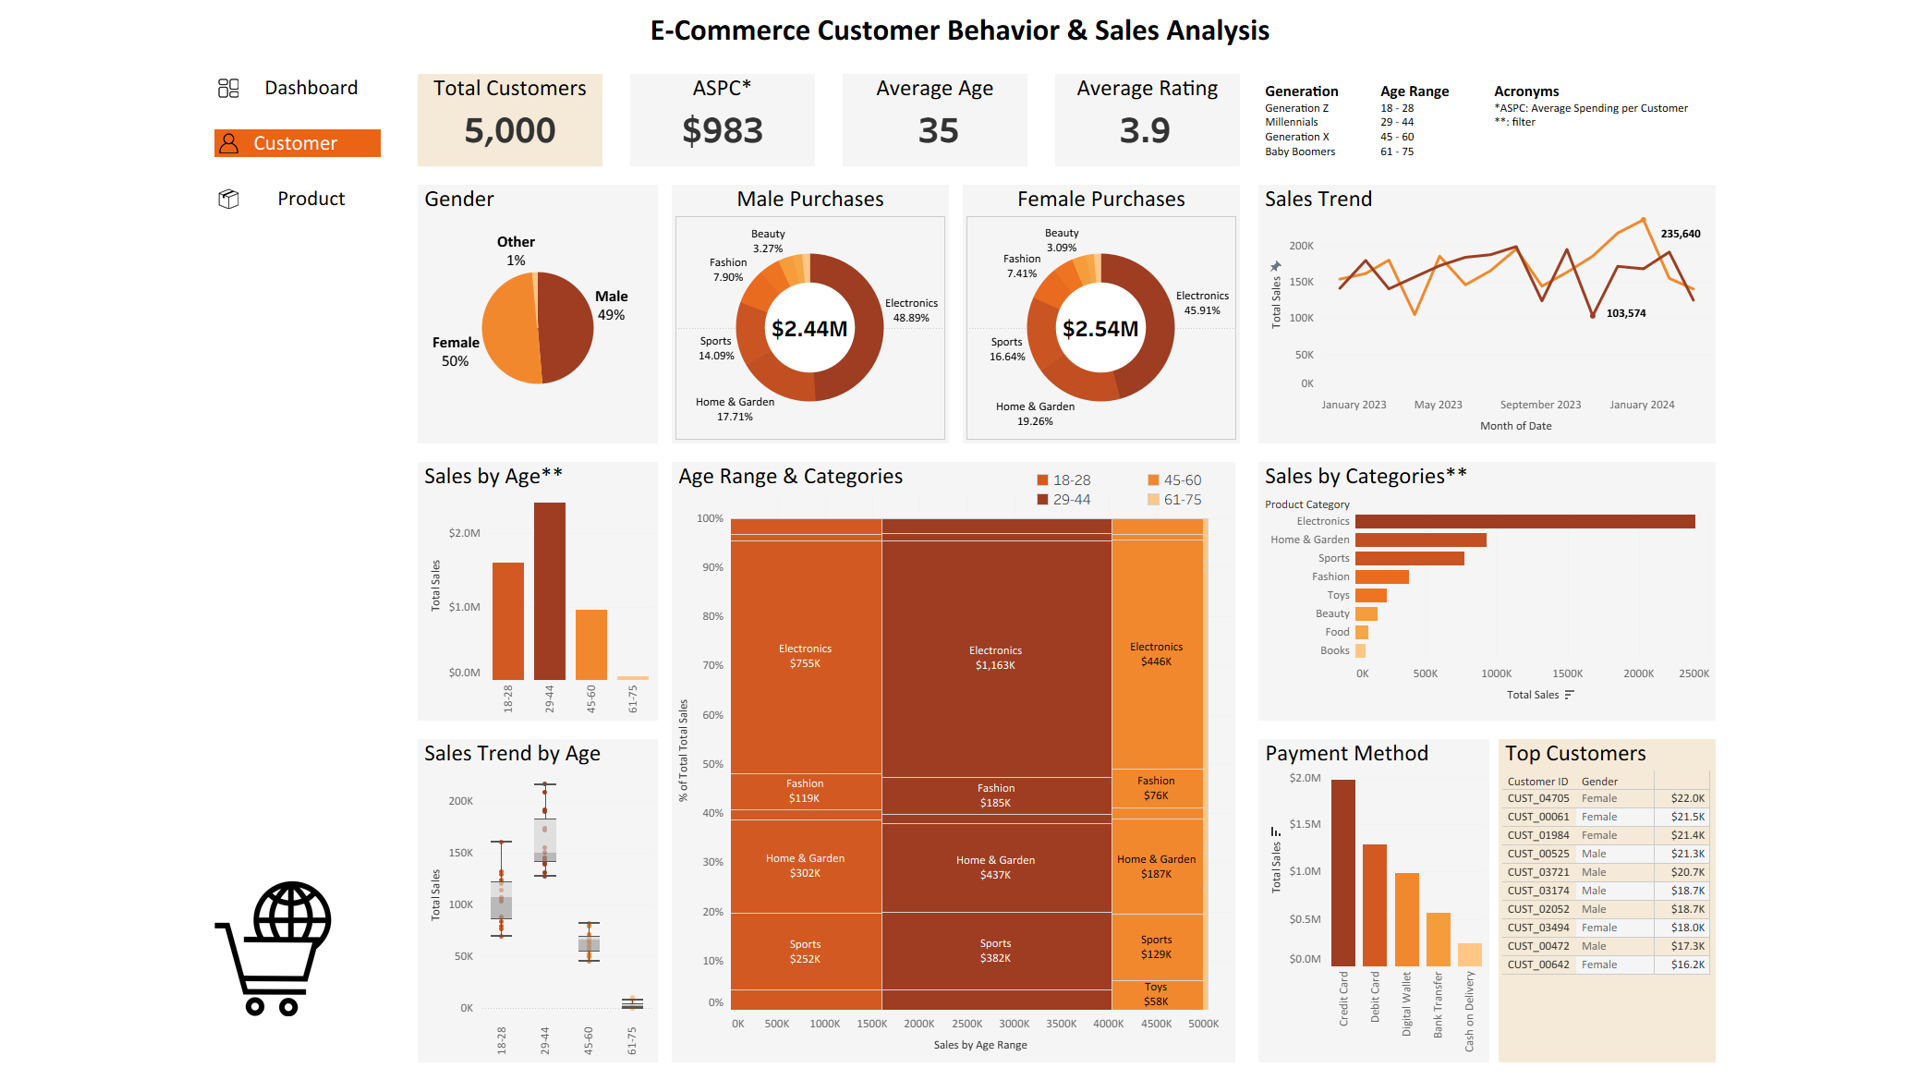

Layout of this report page (visuals, bound fields, positions):
{"tool":"tableau","page":{"name":"Customer","canvas":[1654,1169],"ordinal":0},"visuals":[{"type":"title","box":[8,8,1638,49]},{"type":"image","param":"Image/1.png","box":[20,80,30,30]},{"type":"dashboard-object","box":[50,80,150,30]},{"type":"text","box":[240,80,200,30]},{"type":"text","box":[470,80,200,30]},{"type":"text","box":[700,80,200,30]},{"type":"text","box":[930,80,200,30]},{"type":"text","box":[1150,80,125,100]},{"type":"text","box":[1275,80,123,100]},{"type":"text","box":[1398,80,247,100]},{"type":"worksheet","title":"Total Customers","mark":"Automatic","box":[240,110,200,58]},{"type":"worksheet","title":"Average Spend Per Returning User","mark":"Automatic","box":[470,110,200,58]},{"type":"worksheet","title":"Average Age","mark":"Automatic","box":[700,110,200,58]},{"type":"worksheet","title":"Average Rating","mark":"Automatic","box":[930,110,200,58]},{"type":"image","param":"Image/3.png","box":[20,140,30,30]},{"type":"text","box":[50,140,120,30]},{"type":"image","param":"Image/2.png","box":[20,200,30,30]},{"type":"dashboard-object","box":[50,200,150,30]},{"type":"text","box":[240,200,260,30]},{"type":"text","box":[515,200,300,30]},{"type":"text","box":[830,200,300,30]},{"type":"text","box":[1150,200,495,30]},{"type":"worksheet","title":"Gender","mark":"Pie","box":[240,230,260,250]},{"type":"worksheet","title":"Male Spend by Categories","mark":"Pie","rows":["Calculation_1930636867859955715","Calculation_1930636867859955715"],"box":[515,230,300,250]},{"type":"worksheet","title":"Female Spend by Categories","mark":"Pie","rows":["Calculation_1930636867859955715","Calculation_1930636867859955715"],"box":[830,230,300,250]},{"type":"worksheet","title":"Sales Trend by Gender","mark":"Automatic","rows":["Calculation_1930636867845853185"],"cols":["Date"],"box":[1150,230,495,250]},{"type":"text","box":[240,500,260,30]},{"type":"text","box":[515,500,610,30]},{"type":"text","box":[1150,500,495,30]},{"type":"legend","title":"Age & Categories","param":"[federated.0fvzd6u065pnl51ggmtq41s6tw1s].[none:Calculation_789537312195059712:nk","box":[906,509,309,47]},{"type":"worksheet","title":"Sales by Age","mark":"Automatic","rows":["Calculation_1930636867845853185"],"cols":["Calculation_789537312195059712"],"box":[240,530,260,250]},{"type":"worksheet","title":"Age & Categories","mark":"Bar","box":[515,530,610,620]},{"type":"worksheet","title":"Sales by Categories","mark":"Automatic","rows":["Product_Category"],"cols":["Calculation_1930636867845853185"],"box":[1150,530,495,241]},{"type":"text","box":[240,800,260,30]},{"type":"text","box":[1150,800,250,30]},{"type":"text","box":[1410,800,235,30]},{"type":"worksheet","title":"Sales Trend by Age","mark":"Circle","rows":["Calculation_1930636867845853185"],"cols":["Calculation_789537312195059712"],"box":[240,830,260,320]},{"type":"worksheet","title":"Sales by Payment Method","mark":"Automatic","rows":["Calculation_1930636867845853185"],"cols":["Payment_Method"],"box":[1150,830,250,320]},{"type":"worksheet","title":"Top Sales by Customer","mark":"Automatic","rows":["Customer_ID","Gender"],"box":[1410,830,235,229]},{"type":"image","param":"Image/4.png","box":[20,950,150,150]}]}

Visuals, with their boxes on the page's 1654x1169 design canvas (x1, y1, x2, y2). These are canvas units, not pixel positions in the 1919x1079 screenshot, which may show the page scaled, cropped or inside an application window:
title: box(8, 8, 1646, 57)
image: box(20, 80, 50, 110)
dashboard-object: box(50, 80, 200, 110)
text: box(240, 80, 440, 110)
text: box(470, 80, 670, 110)
text: box(700, 80, 900, 110)
text: box(930, 80, 1130, 110)
text: box(1150, 80, 1275, 180)
text: box(1275, 80, 1398, 180)
text: box(1398, 80, 1645, 180)
"Total Customers" worksheet: box(240, 110, 440, 168)
"Average Spend Per Returning User" worksheet: box(470, 110, 670, 168)
"Average Age" worksheet: box(700, 110, 900, 168)
"Average Rating" worksheet: box(930, 110, 1130, 168)
image: box(20, 140, 50, 170)
text: box(50, 140, 170, 170)
image: box(20, 200, 50, 230)
dashboard-object: box(50, 200, 200, 230)
text: box(240, 200, 500, 230)
text: box(515, 200, 815, 230)
text: box(830, 200, 1130, 230)
text: box(1150, 200, 1645, 230)
"Gender" worksheet (Pie marks): box(240, 230, 500, 480)
"Male Spend by Categories" worksheet (Pie marks): box(515, 230, 815, 480)
"Female Spend by Categories" worksheet (Pie marks): box(830, 230, 1130, 480)
"Sales Trend by Gender" worksheet: box(1150, 230, 1645, 480)
text: box(240, 500, 500, 530)
text: box(515, 500, 1125, 530)
text: box(1150, 500, 1645, 530)
"Age & Categories" legend: box(906, 509, 1215, 556)
"Sales by Age" worksheet: box(240, 530, 500, 780)
"Age & Categories" worksheet (Bar marks): box(515, 530, 1125, 1150)
"Sales by Categories" worksheet: box(1150, 530, 1645, 771)
text: box(240, 800, 500, 830)
text: box(1150, 800, 1400, 830)
text: box(1410, 800, 1645, 830)
"Sales Trend by Age" worksheet (Circle marks): box(240, 830, 500, 1150)
"Sales by Payment Method" worksheet: box(1150, 830, 1400, 1150)
"Top Sales by Customer" worksheet: box(1410, 830, 1645, 1059)
image: box(20, 950, 170, 1100)
